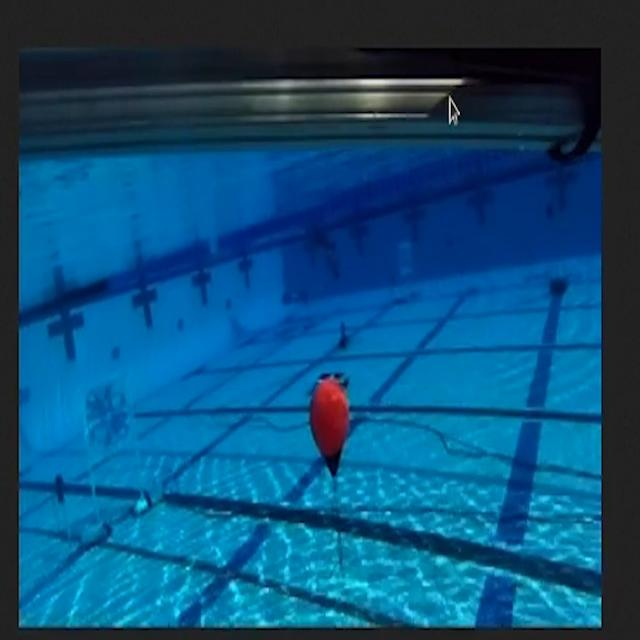Buoy: (306, 383, 356, 472)
